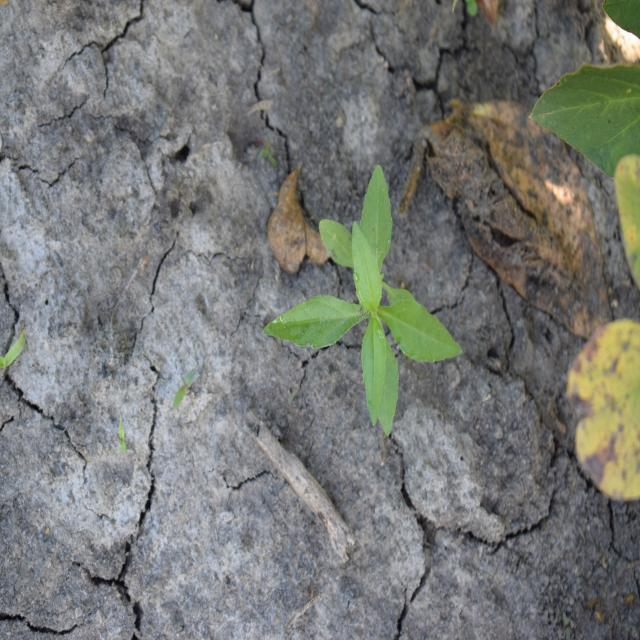Eclipta: (260, 164, 464, 438)
